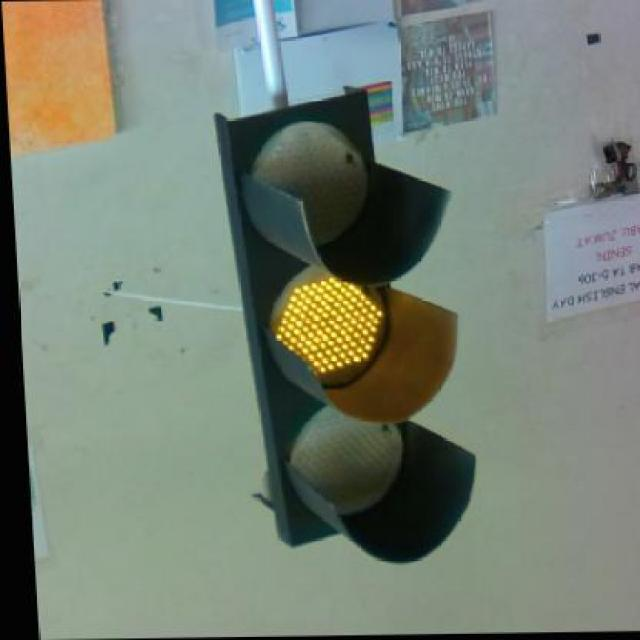yellow_light: (215, 88, 474, 560)
